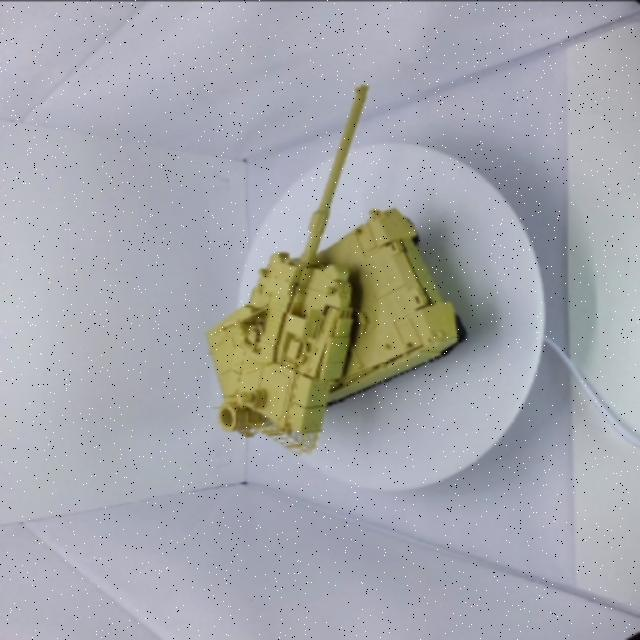korea tank: (178, 74, 491, 466)
